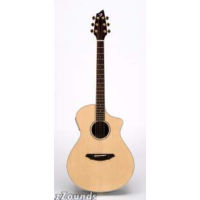guitar: (66, 9, 136, 194)
